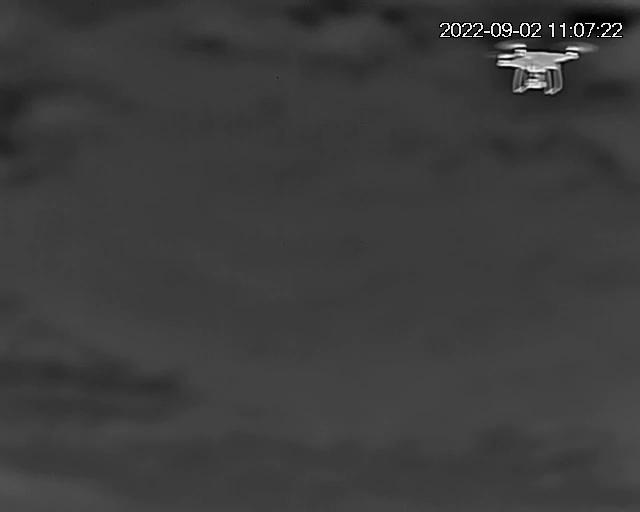DJI-Phantom: (495, 40, 595, 93)
